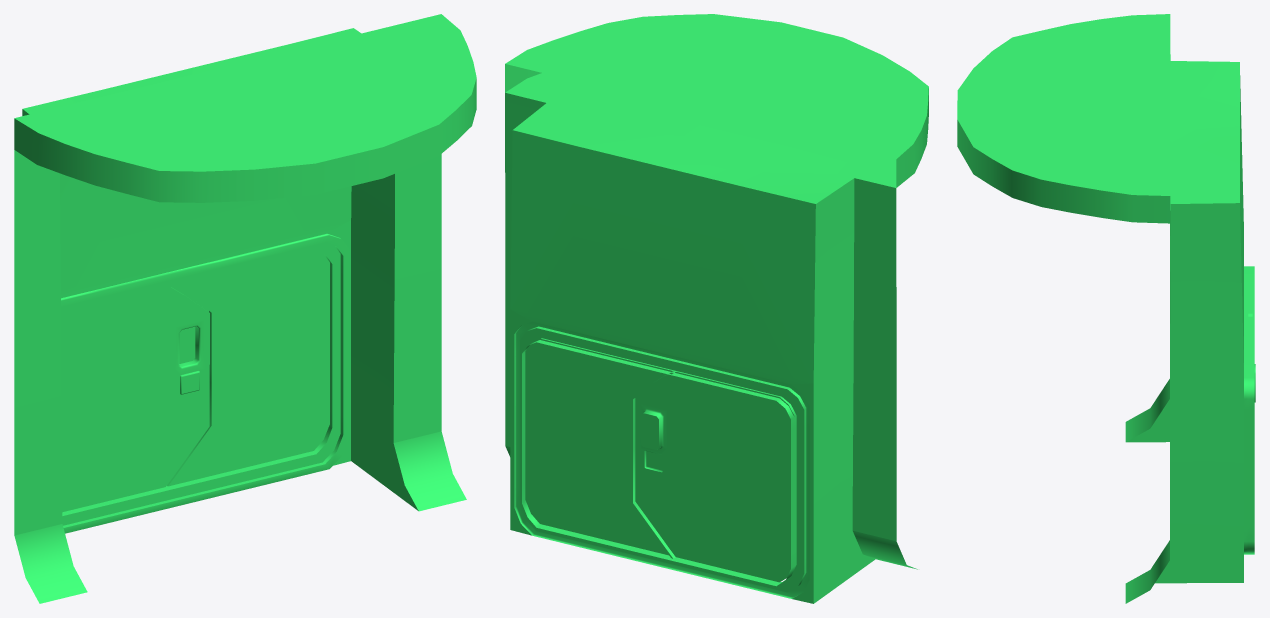
The model's file is DoubleDoor.fbx.
3 renders of one model, left to right at view 1: azimuth 30°, elevation 25°; view 2: azimuth 150°, elevation 25°; view 3: azimuth 270°, elevation 25°, orthographic. The views are drawn at different scales.
Visible parts, largest first — view 1: Bottom-Wall-WithDoor001; view 2: Bottom-Wall-WithDoor001; view 3: Bottom-Wall-WithDoor001.
Part boxes in pixels (box(x1,y1,x2,y2)): Bottom-Wall-WithDoor001: box(14, 14, 476, 603); Bottom-Wall-WithDoor001: box(505, 14, 928, 603); Bottom-Wall-WithDoor001: box(957, 14, 1255, 603).
Bounding box in the file's own units: 5 × 5.22 × 3.46.
